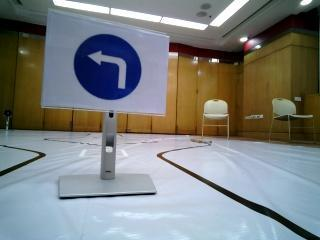left: (52, 16, 157, 117)
